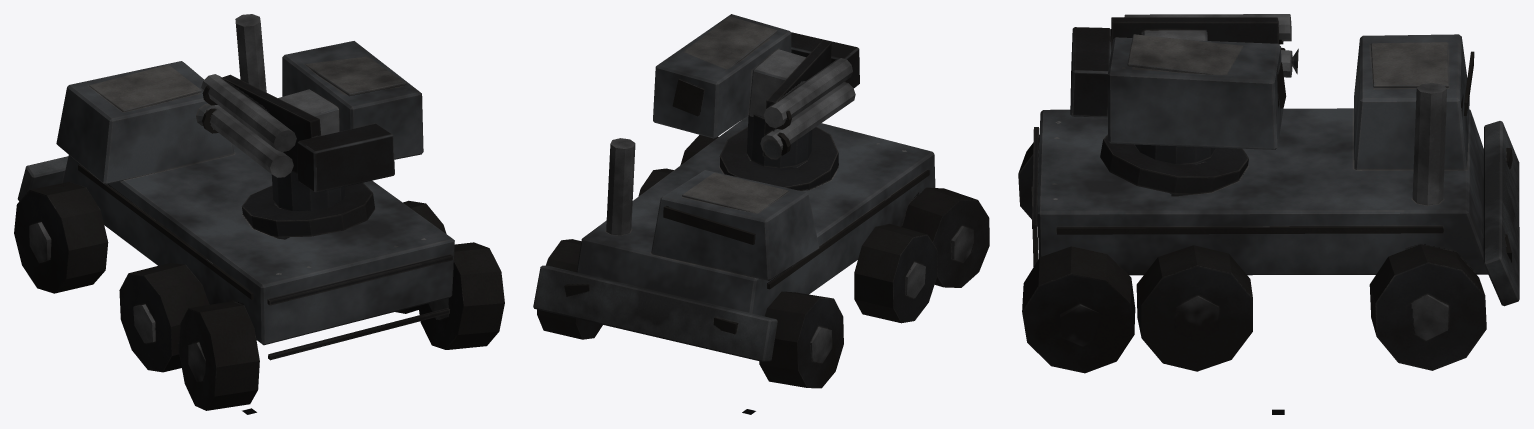
The model's file is chs_hornet_wreck.fbx.
The picture shows the model from 3 angles, left to right: view 1: azimuth 30°, elevation 25°; view 2: azimuth 150°, elevation 25°; view 3: azimuth 270°, elevation 25°; orthographic projection. The views are drawn at different scales.
Parts seen in each view (by area): view 1: base_bar, launcher_bar, turret_bar; view 2: base_bar, launcher_bar, turret_bar; view 3: base_bar, launcher_bar, turret_bar.
Boxes of the visible parts, bbox=[...] form: base_bar: bbox=[14, 14, 504, 410]; launcher_bar: bbox=[196, 41, 423, 192]; turret_bar: bbox=[271, 171, 345, 210]; base_bar: bbox=[533, 115, 989, 388]; launcher_bar: bbox=[653, 14, 859, 159]; turret_bar: bbox=[746, 114, 812, 168]; base_bar: bbox=[1018, 34, 1519, 373]; launcher_bar: bbox=[1070, 14, 1298, 149]; turret_bar: bbox=[1135, 144, 1215, 164].
Size of the model in its own units: 589 by 682 by 781.
Materials: 2 (2 with a texture image).
